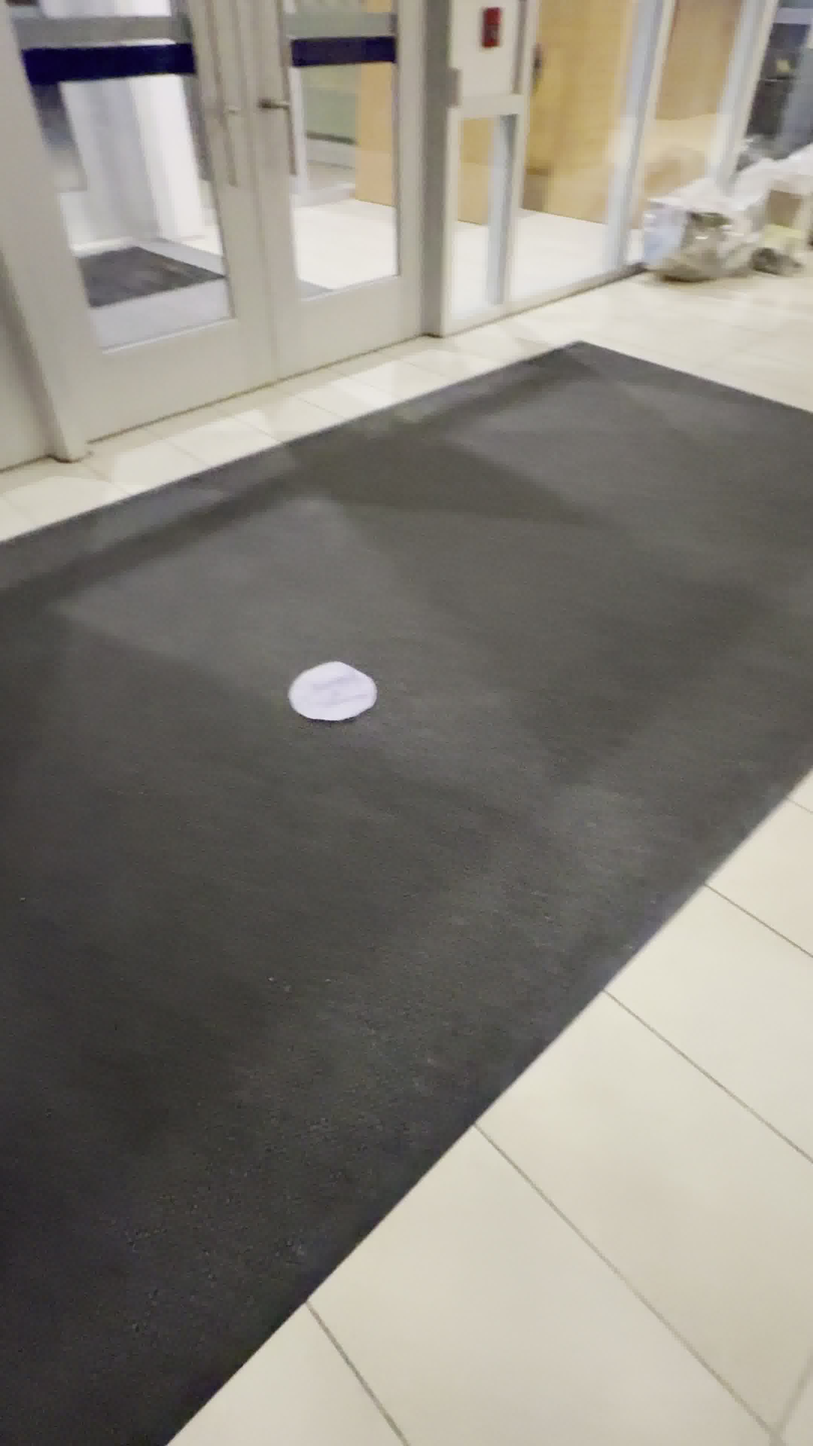Target: (288, 661, 377, 722)
